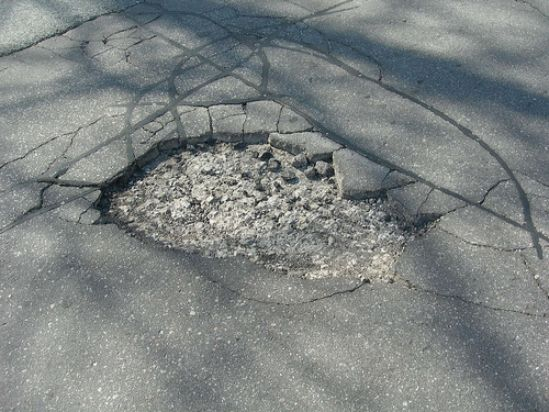pothole: (92, 129, 435, 289)
